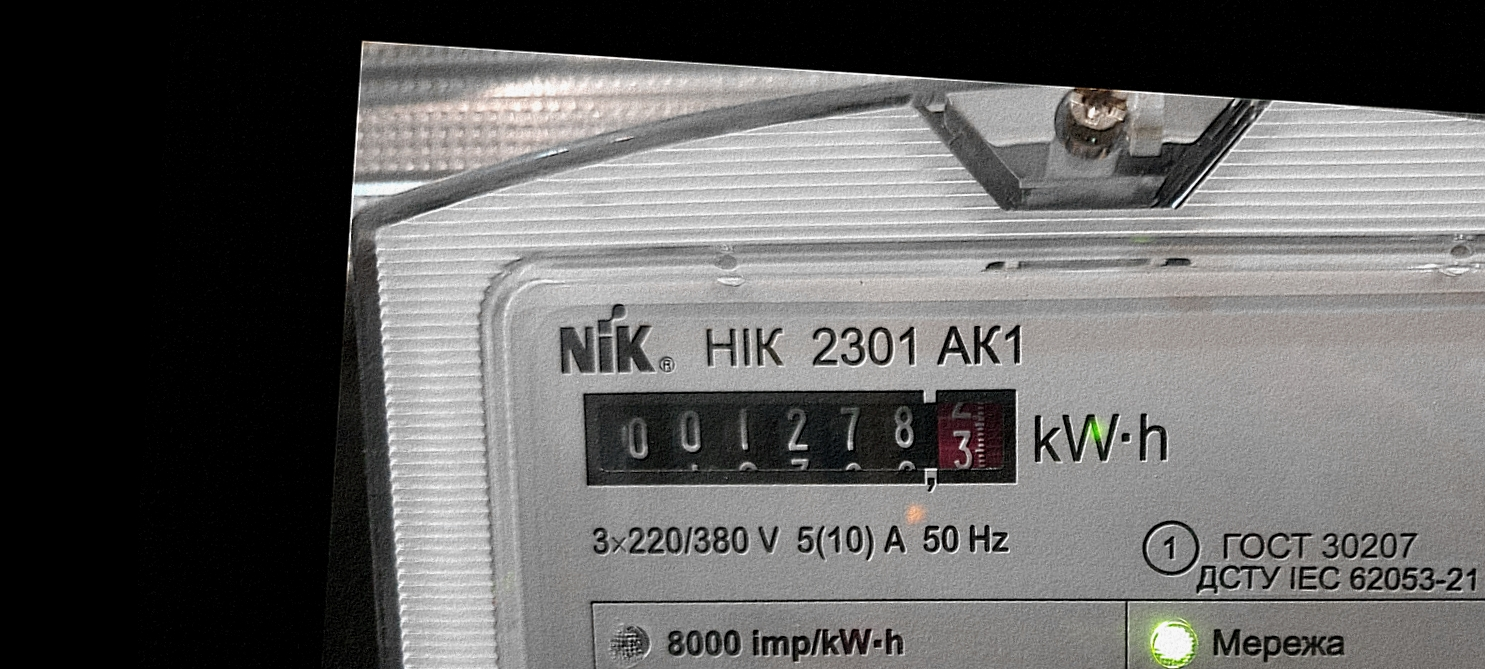0: (625, 412, 655, 462), (676, 407, 705, 455)
1: (735, 404, 756, 451)
2: (784, 406, 813, 454), (950, 399, 975, 420)
3: (949, 426, 978, 472)
7: (837, 404, 862, 452)
8: (892, 404, 919, 449)
screen: (564, 348, 1041, 526)
